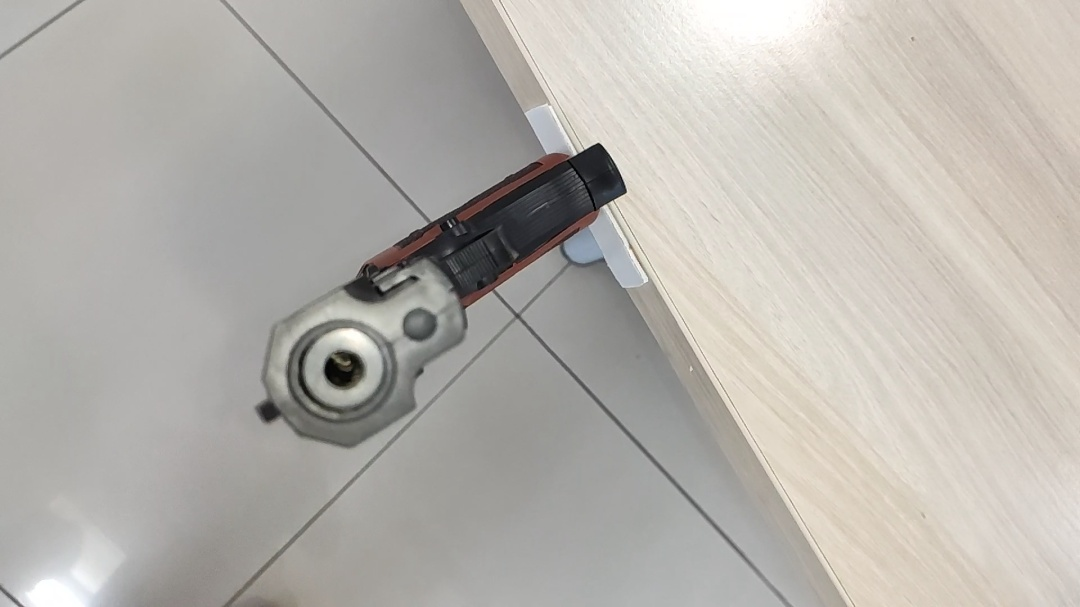gun: (257, 145, 630, 450)
